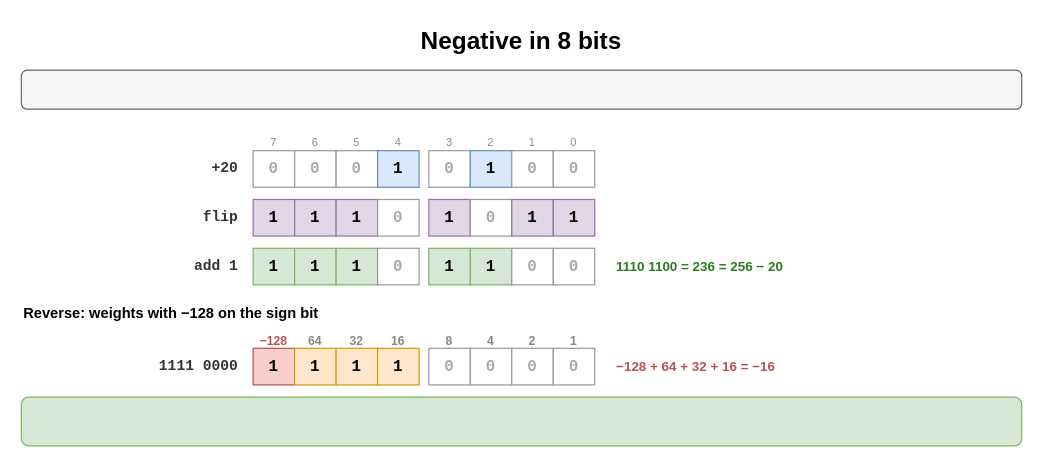
Some shapes in this 1043 by 467 pixel diagram are drawn without their labels. The shapes that lost their labels are listed below. From the top down, each one's centre as x and y in pixels, then its label:
At point 521,89: "−20 as a pattern, and the signed value of 1111 0000".
At point 521,421: "Answer: −20 = 1110 1100; the byte 1111 0000 holds −16.".
